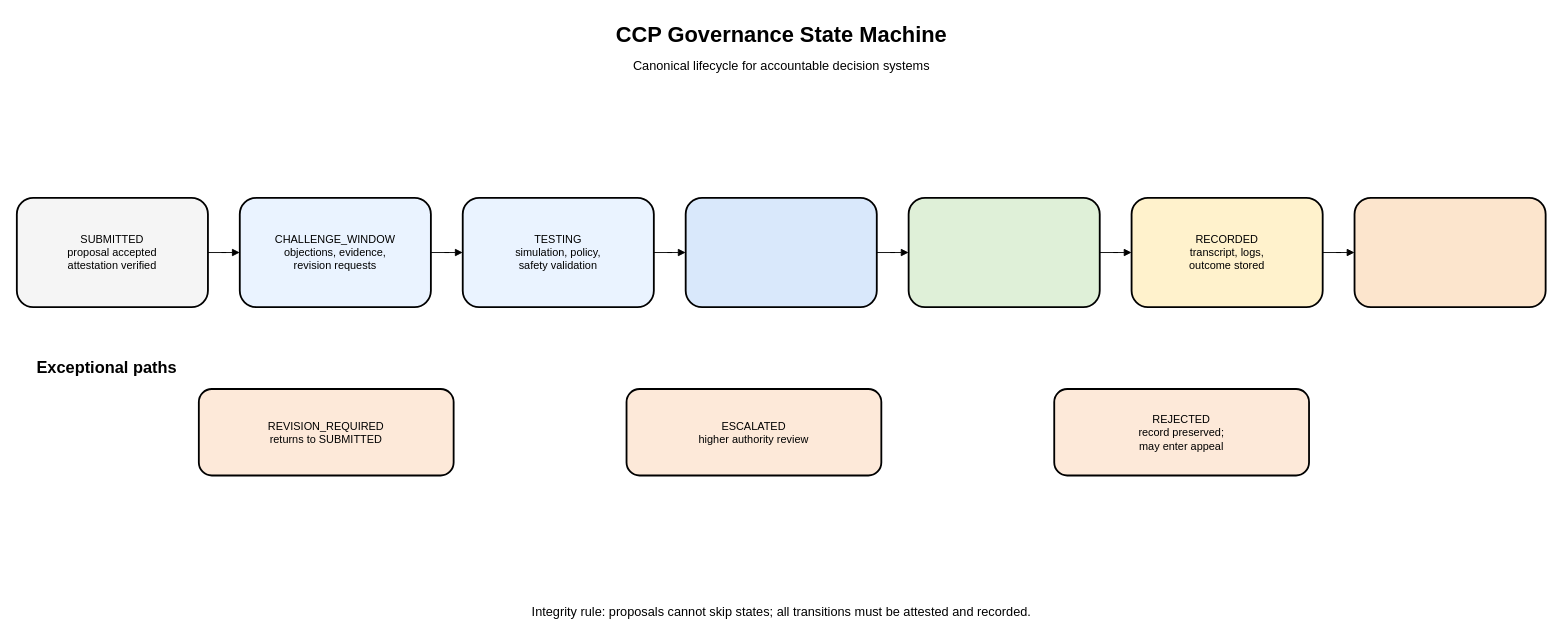
The diagram is 1562 pixels wide and 641 high, and some of its shapes have lost their labels. The shapes that lost their labels are listed below. From the top down, each one's centre as x and y in pixels, then its label:
the point at 780,252: ADJUDICATION approve, deny, revise, escalate
the point at 1003,252: EXECUTION authorized action under constraints
the point at 1449,252: LEARNING retrospective, policy improvement
